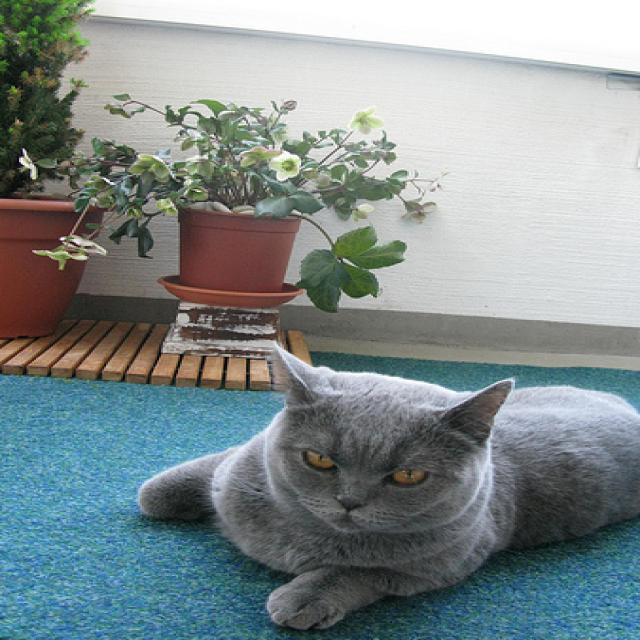British Shorthair: (136, 338, 640, 633)
